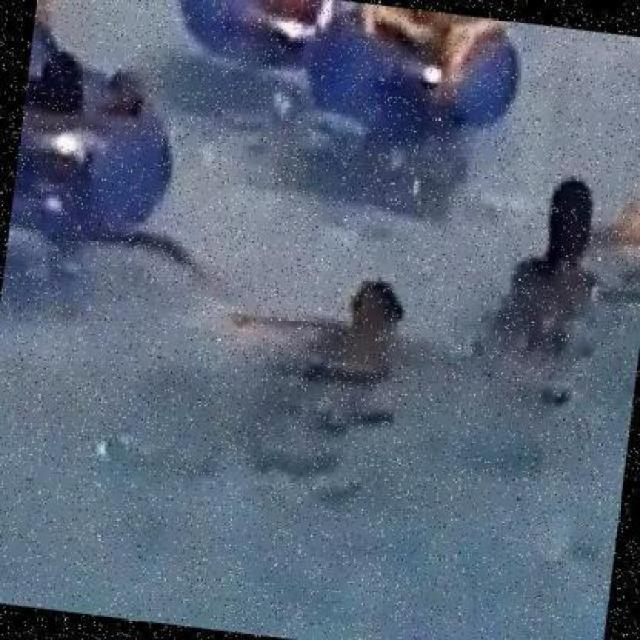drowning: (502, 174, 592, 326), (325, 289, 410, 377)
